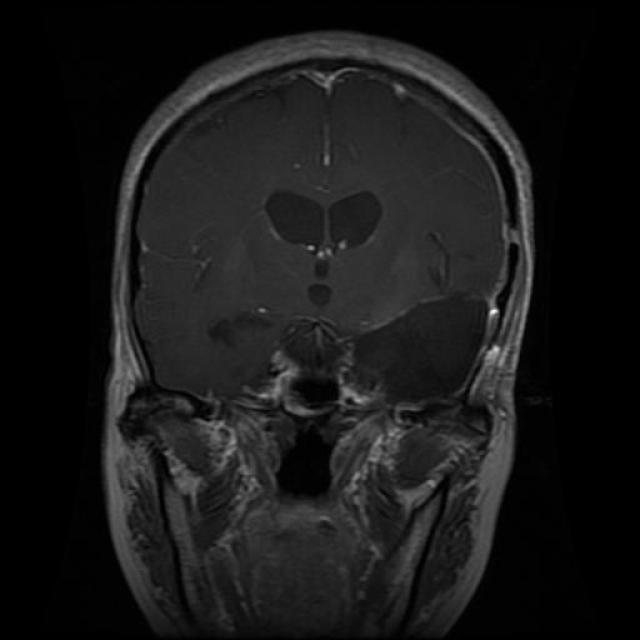glioma: (266, 186, 379, 252)
